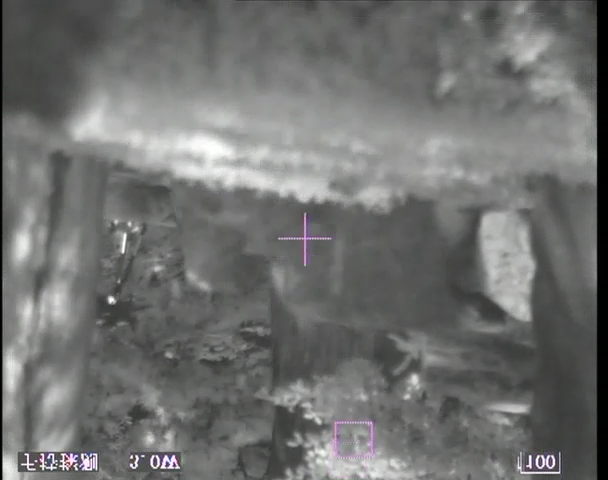my: (106, 295, 117, 307)
